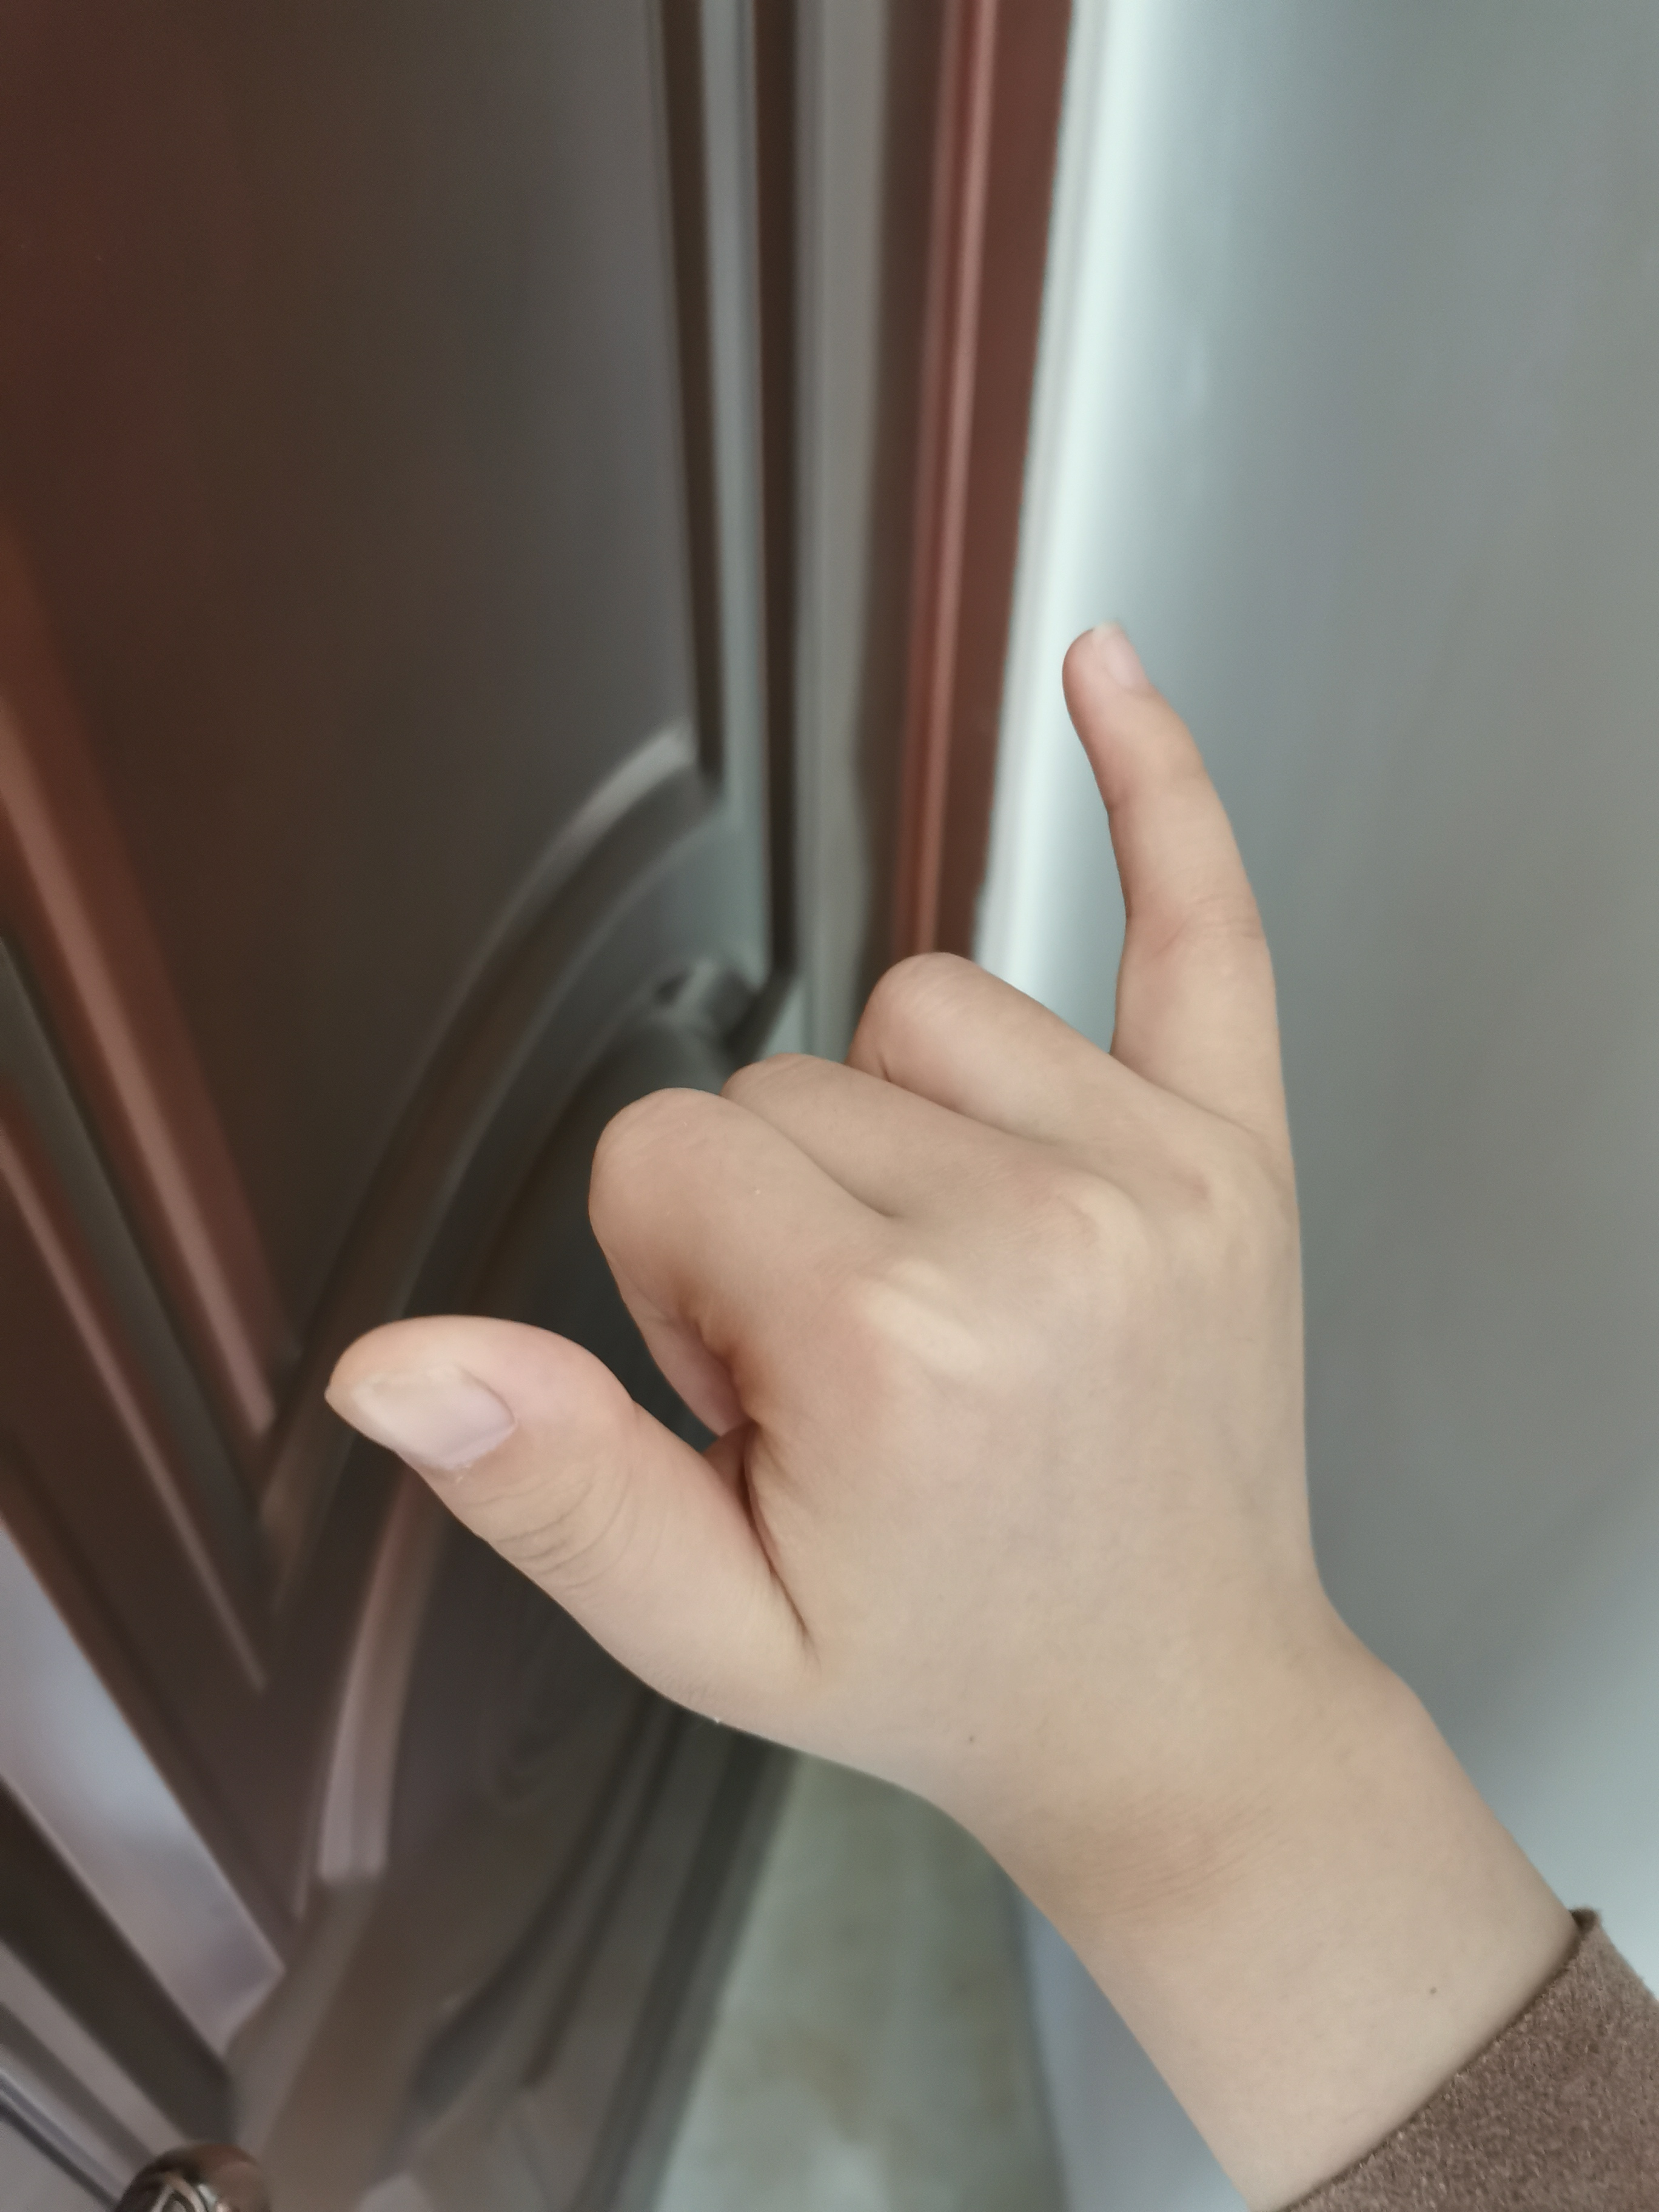clockwise: (305, 589, 1338, 1872)
